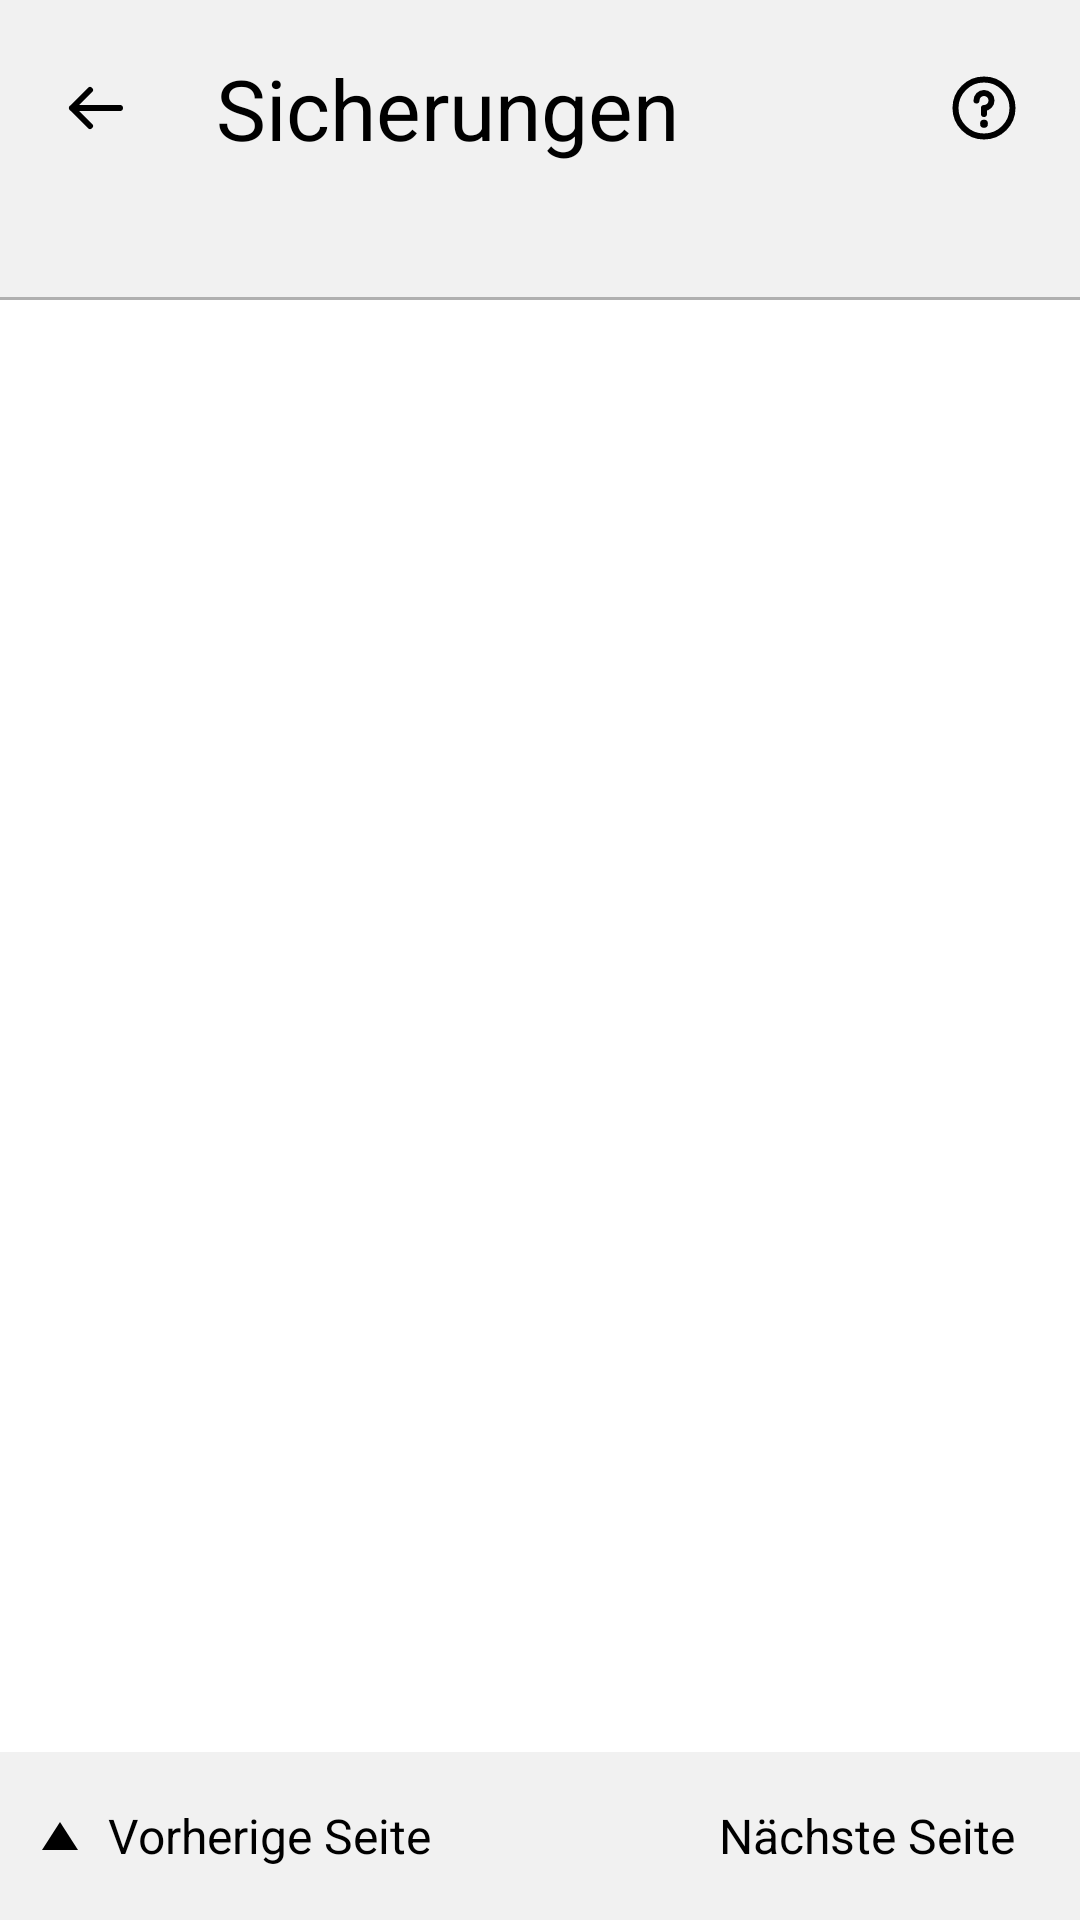

Screen size 1080x1920. Icon name, then its center in pixels as point (x, y):
arrow up: point (60, 1836)
Hilfe: point (984, 108)
Zurück: point (96, 108)
